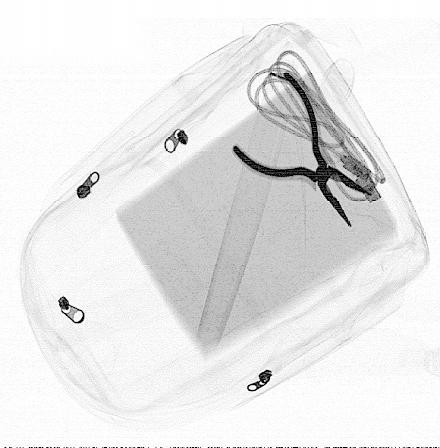Pliers: (232, 68, 374, 231)
